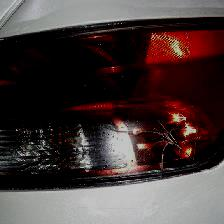tail_lamp: (109, 114, 199, 169)
